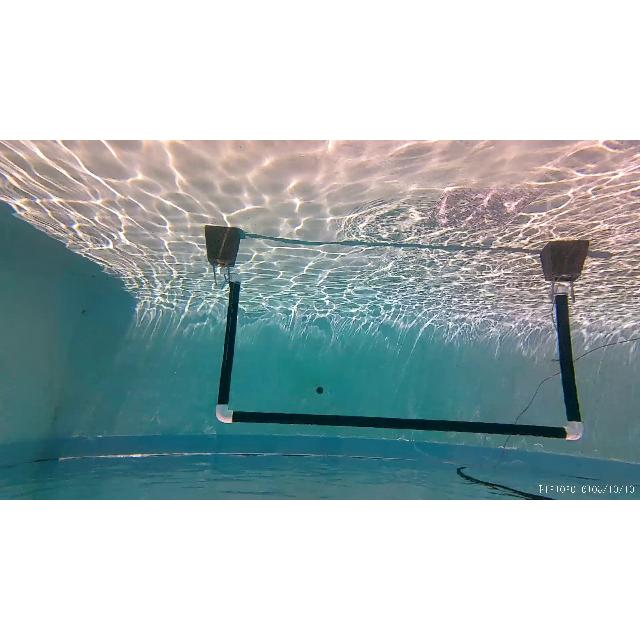prequal gate: (215, 286, 583, 440)
prequal gate leg l: (544, 288, 586, 442)
prequal gate leg r: (215, 282, 238, 428)
